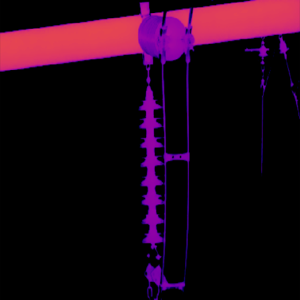insulator: (138, 86, 164, 247), (136, 12, 187, 61)
